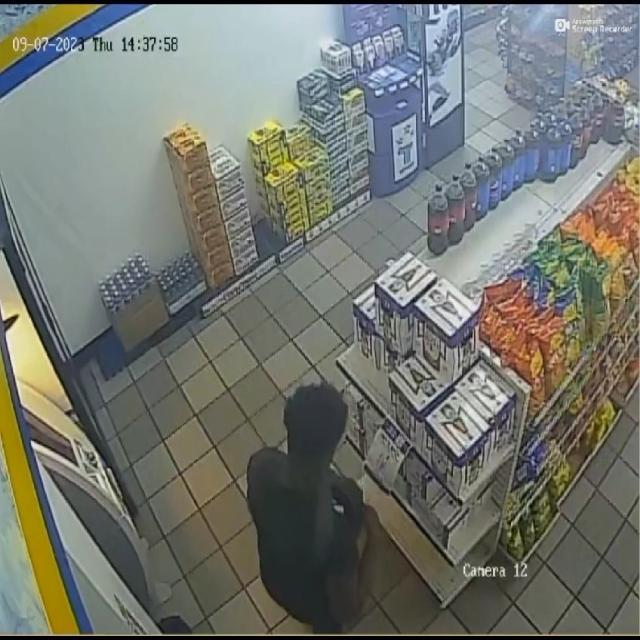normal: (232, 325, 410, 640)
